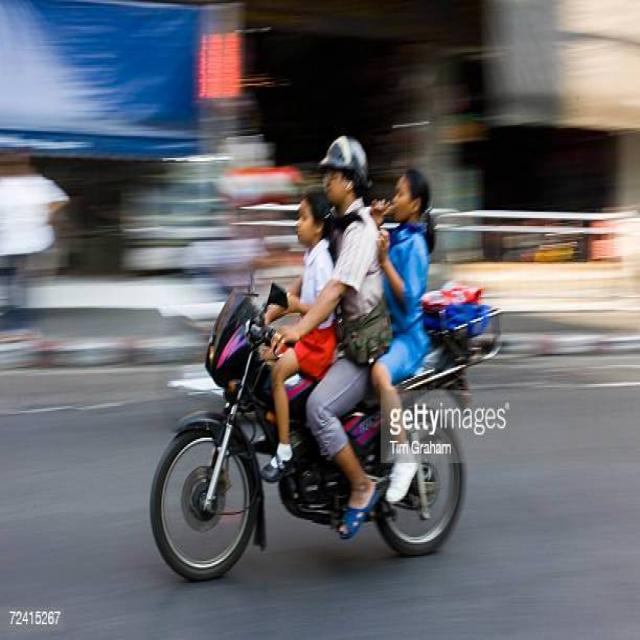Triple Riding: (243, 138, 513, 528)
